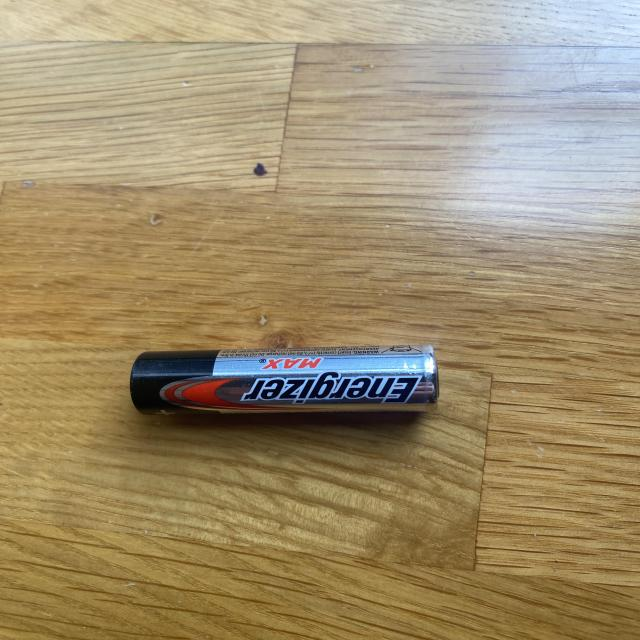AA: (129, 344, 439, 416)
